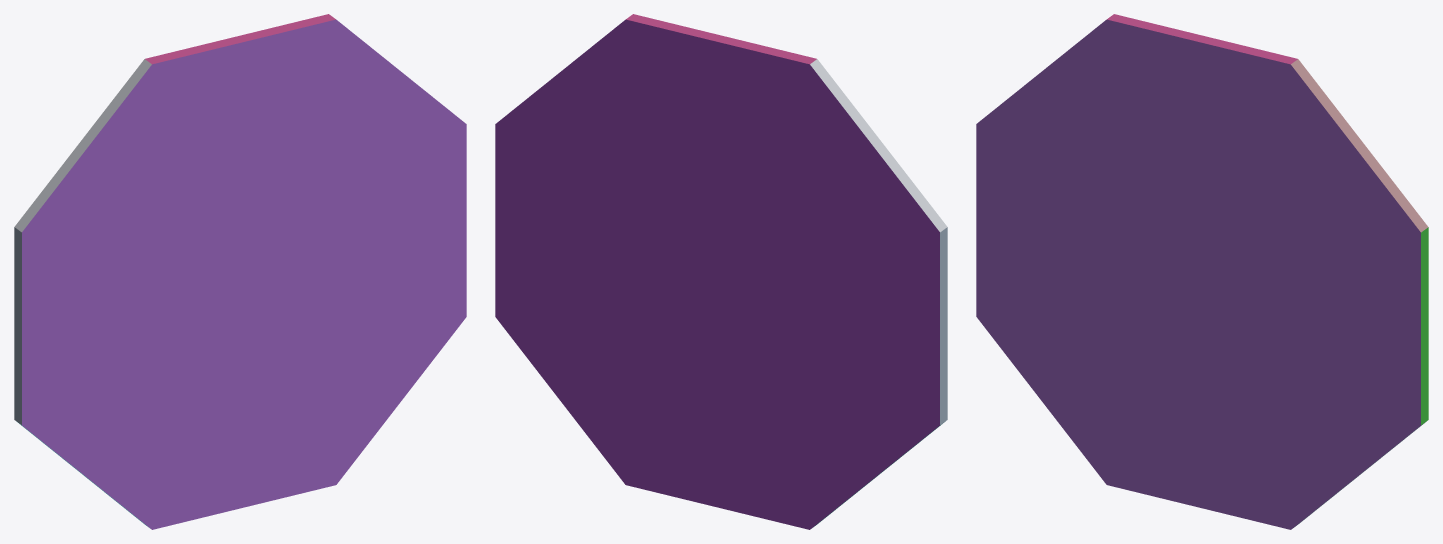
Rendered from module-stagger-02.glb.
The picture shows the model from 3 angles, left to right: view 1: azimuth 30°, elevation 25°; view 2: azimuth 150°, elevation 25°; view 3: azimuth 330°, elevation 25°; orthographic projection.
Size of the model in its own units: 1.39 by 1.39 by 0.0405.
